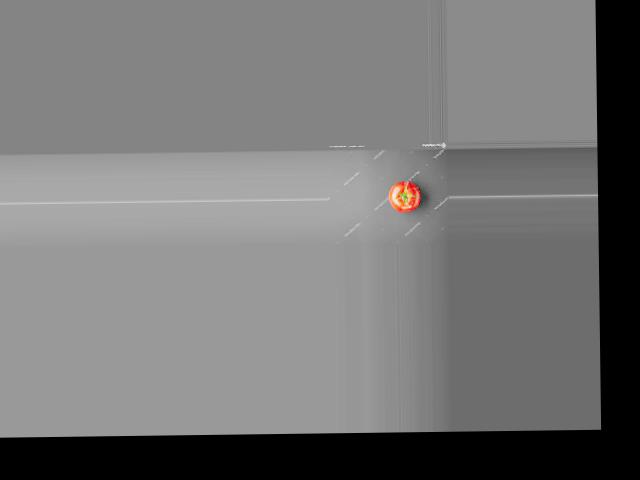tomato: (387, 180, 420, 212)
